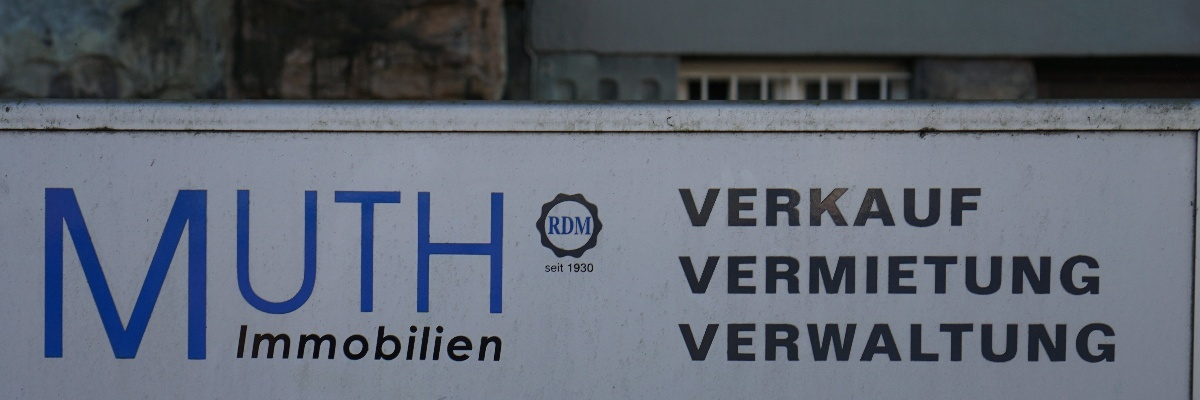text: (49, 187, 64, 365), (65, 187, 80, 365), (81, 187, 96, 365), (97, 187, 112, 365), (113, 187, 128, 365), (129, 187, 144, 365), (145, 187, 160, 365), (161, 187, 176, 365), (177, 187, 192, 365), (193, 187, 208, 365), (209, 187, 224, 365), (225, 187, 240, 365), (241, 187, 256, 365), (257, 187, 272, 365), (273, 187, 288, 365), (289, 187, 304, 365), (305, 187, 320, 365), (321, 187, 336, 365), (337, 187, 352, 365), (353, 187, 368, 365), (369, 187, 384, 365), (385, 187, 400, 365), (401, 187, 416, 365), (417, 187, 432, 365), (433, 187, 448, 365), (449, 187, 464, 365), (465, 187, 480, 365), (481, 187, 496, 365), (497, 187, 507, 365), (42, 187, 48, 365), (689, 323, 704, 365), (705, 323, 720, 365), (721, 323, 736, 365), (737, 323, 752, 365), (753, 323, 768, 365), (769, 323, 784, 365), (785, 323, 800, 365), (801, 323, 816, 365), (817, 323, 832, 365), (833, 323, 848, 365), (849, 323, 864, 365), (865, 323, 880, 365), (881, 323, 896, 365), (897, 323, 912, 365), (913, 323, 928, 365), (929, 323, 944, 365), (945, 323, 960, 365), (961, 323, 976, 365), (977, 323, 992, 365), (993, 323, 1008, 365), (1009, 323, 1024, 365), (1025, 323, 1040, 365), (1041, 323, 1056, 365), (1057, 323, 1072, 365), (1073, 323, 1088, 365), (1089, 323, 1104, 365), (689, 255, 704, 297), (705, 255, 720, 297), (721, 255, 736, 297), (737, 255, 752, 297), (753, 255, 768, 297), (769, 255, 784, 297), (785, 255, 800, 297), (801, 255, 816, 297), (817, 255, 832, 297), (833, 255, 848, 297), (849, 255, 864, 297), (865, 255, 880, 297), (881, 255, 896, 297), (897, 255, 912, 297), (913, 255, 928, 297), (929, 255, 944, 297), (945, 255, 960, 297), (961, 255, 976, 297), (977, 255, 992, 297), (993, 255, 1008, 297), (1009, 255, 1024, 297), (1025, 255, 1040, 297), (1041, 255, 1056, 297), (1057, 255, 1072, 297), (1073, 255, 1088, 297), (689, 187, 704, 229), (705, 187, 720, 229), (721, 187, 736, 229), (737, 187, 752, 229), (753, 187, 768, 229), (769, 187, 784, 229), (785, 187, 800, 229), (801, 187, 816, 229), (817, 187, 832, 229), (833, 187, 848, 229), (849, 187, 864, 229), (865, 187, 880, 229), (881, 187, 896, 229), (897, 187, 912, 229), (913, 187, 928, 229), (929, 187, 944, 229), (945, 187, 960, 229), (961, 187, 976, 229), (241, 326, 256, 363), (257, 326, 272, 363), (273, 326, 288, 363), (289, 326, 304, 363), (305, 326, 320, 363), (321, 326, 336, 363), (337, 326, 352, 363), (353, 326, 368, 363), (369, 326, 384, 363), (385, 326, 400, 363), (401, 326, 416, 363), (417, 326, 432, 363), (433, 326, 448, 363), (449, 326, 464, 363), (465, 326, 480, 363), (481, 326, 496, 363), (675, 255, 688, 297), (676, 323, 688, 365), (1105, 323, 1117, 365), (1089, 255, 1101, 297), (676, 187, 688, 229), (577, 217, 593, 236), (977, 187, 984, 229), (561, 217, 576, 236), (497, 326, 504, 363), (548, 217, 560, 236), (545, 263, 560, 275), (561, 263, 576, 275), (577, 263, 592, 275), (542, 263, 544, 275), (593, 263, 595, 275)
